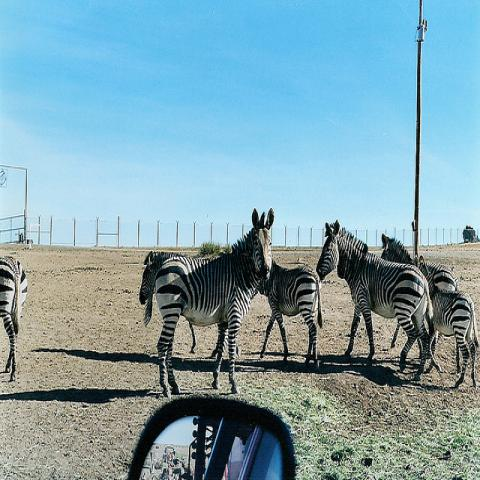car: (124, 400, 302, 473), (162, 446, 175, 463)
